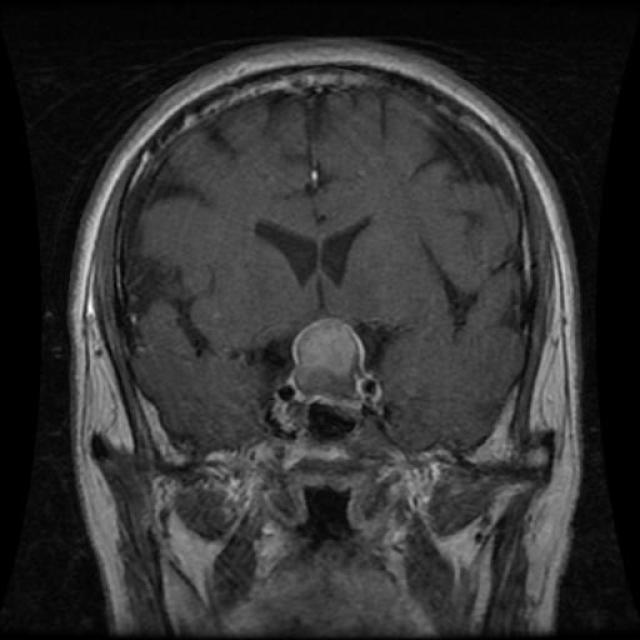pituitary: (285, 315, 383, 409)
